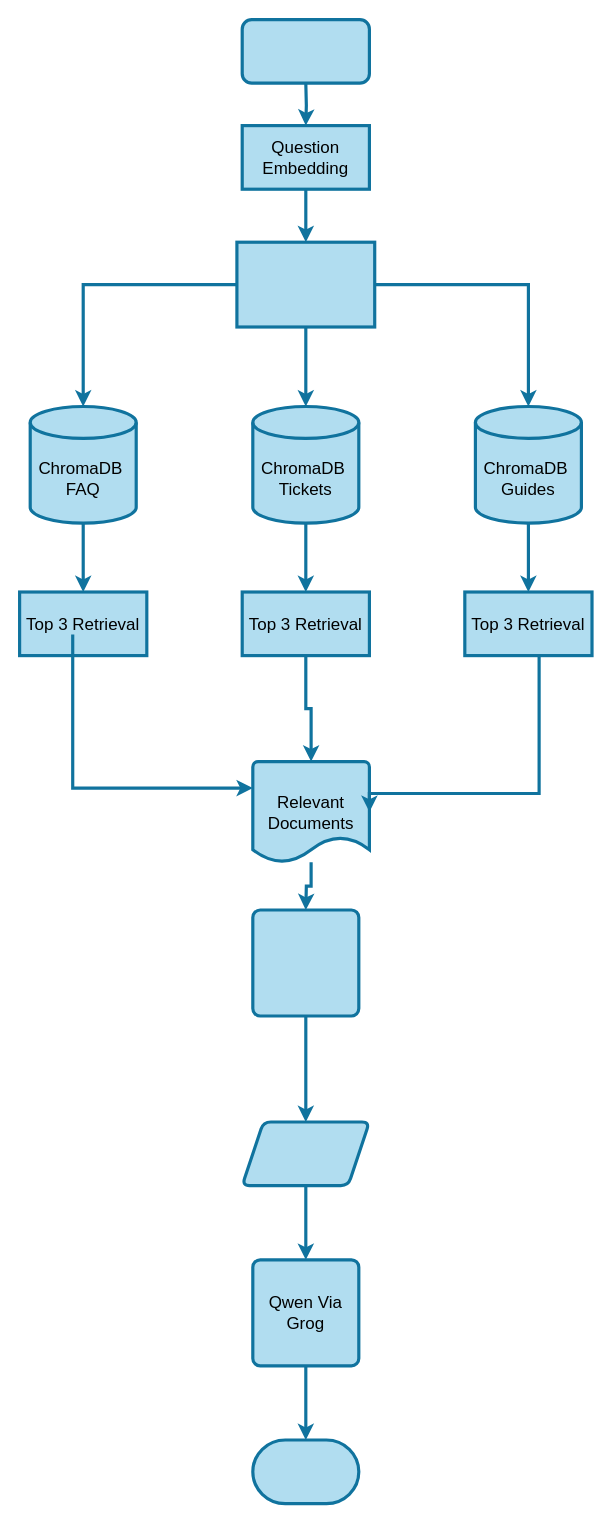
Some shapes in this 612 by 1523 pixel diagram are drawn without their labels. The shapes that lost their labels are listed below. From the top down, each one's centre as x and y in pixels, then its label:
At [305,50]: "User Question".
At [305,284]: "Merged Retriever".
At [305,962]: "Chat Prompt Template".
At [305,1153]: "Retrieved Context".
At [305,1471]: "Answer".
